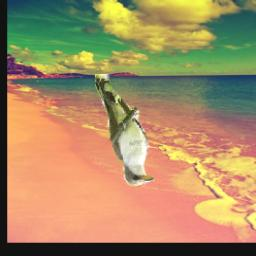Cuckoo: (95, 75, 155, 188)
